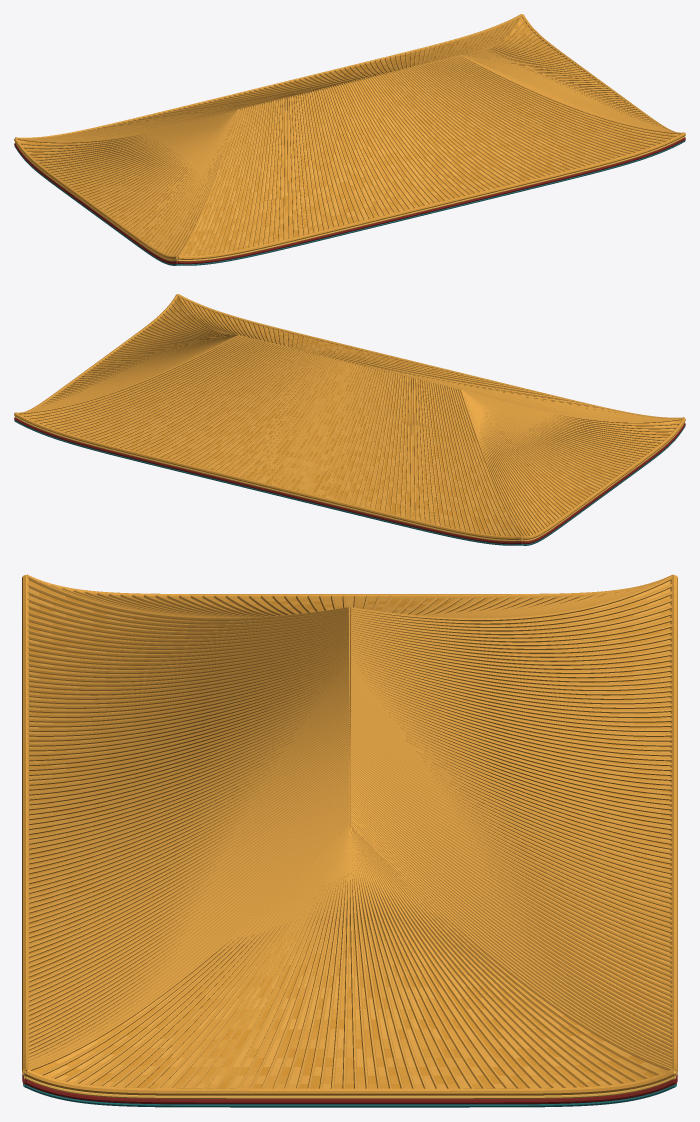
File: SM_21_Roof_Upper.fbx
3 renders of one model, top to bottom at view 1: azimuth 30°, elevation 25°; view 2: azimuth 150°, elevation 25°; view 3: azimuth 270°, elevation 25°, orthographic. The views are drawn at different scales.
Parts seen in each view (by area): view 1: Roof_Upper; view 2: Roof_Upper; view 3: Roof_Upper.
Boxes of the visible parts, <box> form: Roof_Upper: <box>14,14,685,265</box>; Roof_Upper: <box>14,294,685,545</box>; Roof_Upper: <box>22,574,677,1107</box>.
Bounding box in the file's own units: 4832 × 2692 × 655.
